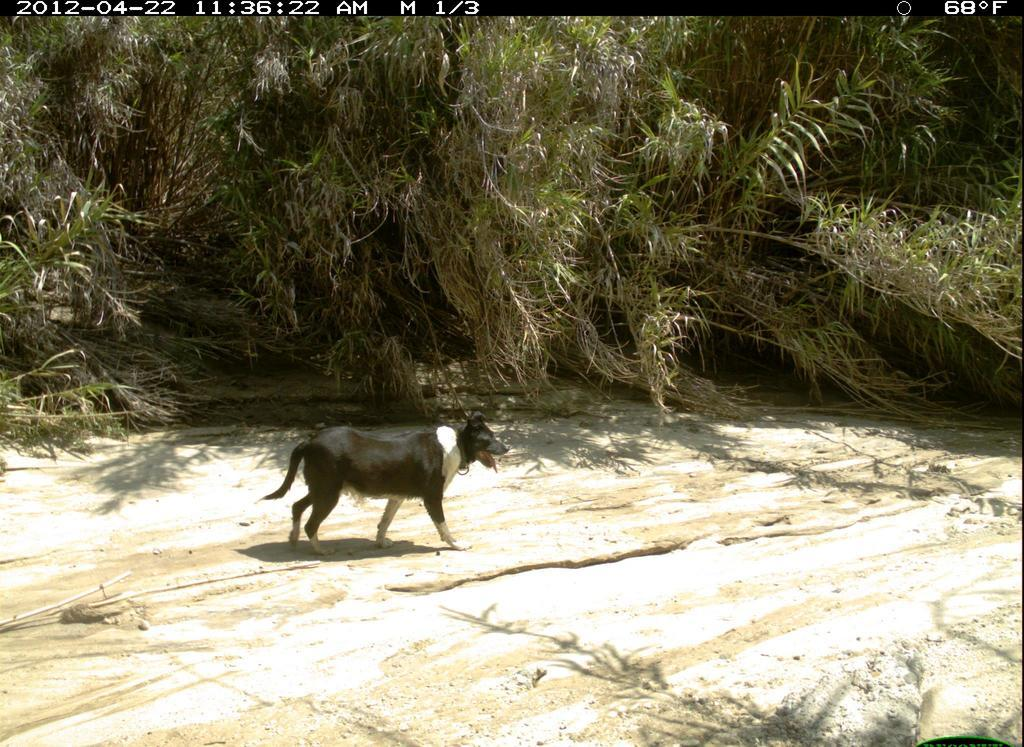dog: (259, 406, 510, 560)
